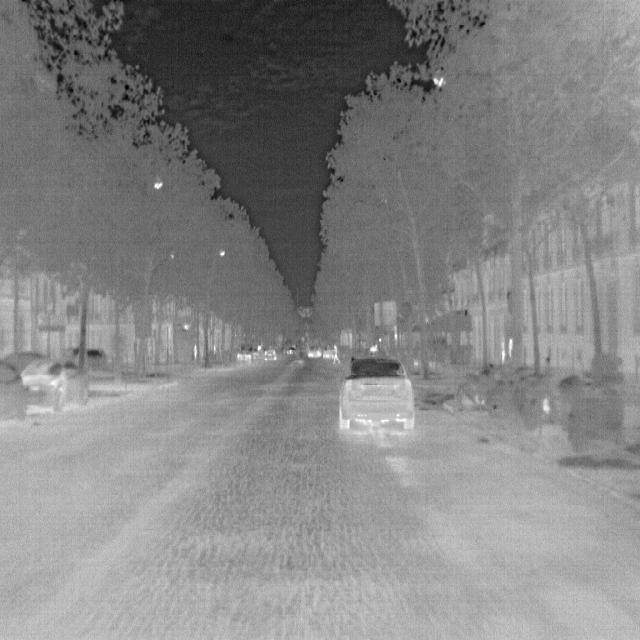Vehicle: (336, 351, 416, 434), (18, 356, 91, 414)
